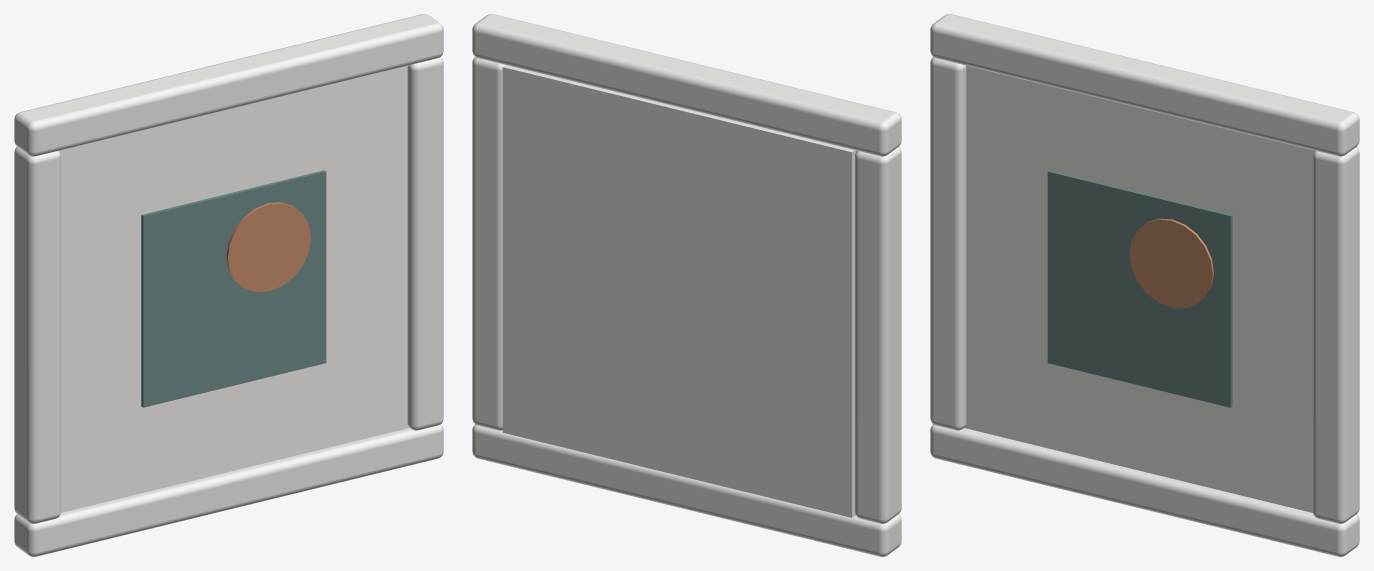
File: cuadro-marco-blanco.glb
3 views of the same model, side by side, from view 1: azimuth 30°, elevation 25°; view 2: azimuth 150°, elevation 25°; view 3: azimuth 330°, elevation 25° (orthographic).
Parts seen in each view (by area): view 1: cuadro-marco-blanco; view 2: cuadro-marco-blanco; view 3: cuadro-marco-blanco.
Boxes of the visible parts, x1,y1,x2,y2 form: cuadro-marco-blanco: (14,14,443,556); cuadro-marco-blanco: (472,14,901,556); cuadro-marco-blanco: (930,14,1359,556).
Bounding box in the file's own units: 0.25 × 0.25 × 0.02.
